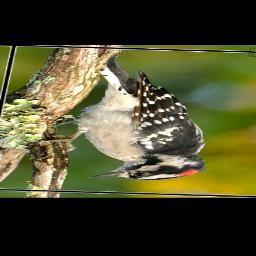Woodpecker: (35, 52, 235, 181)
